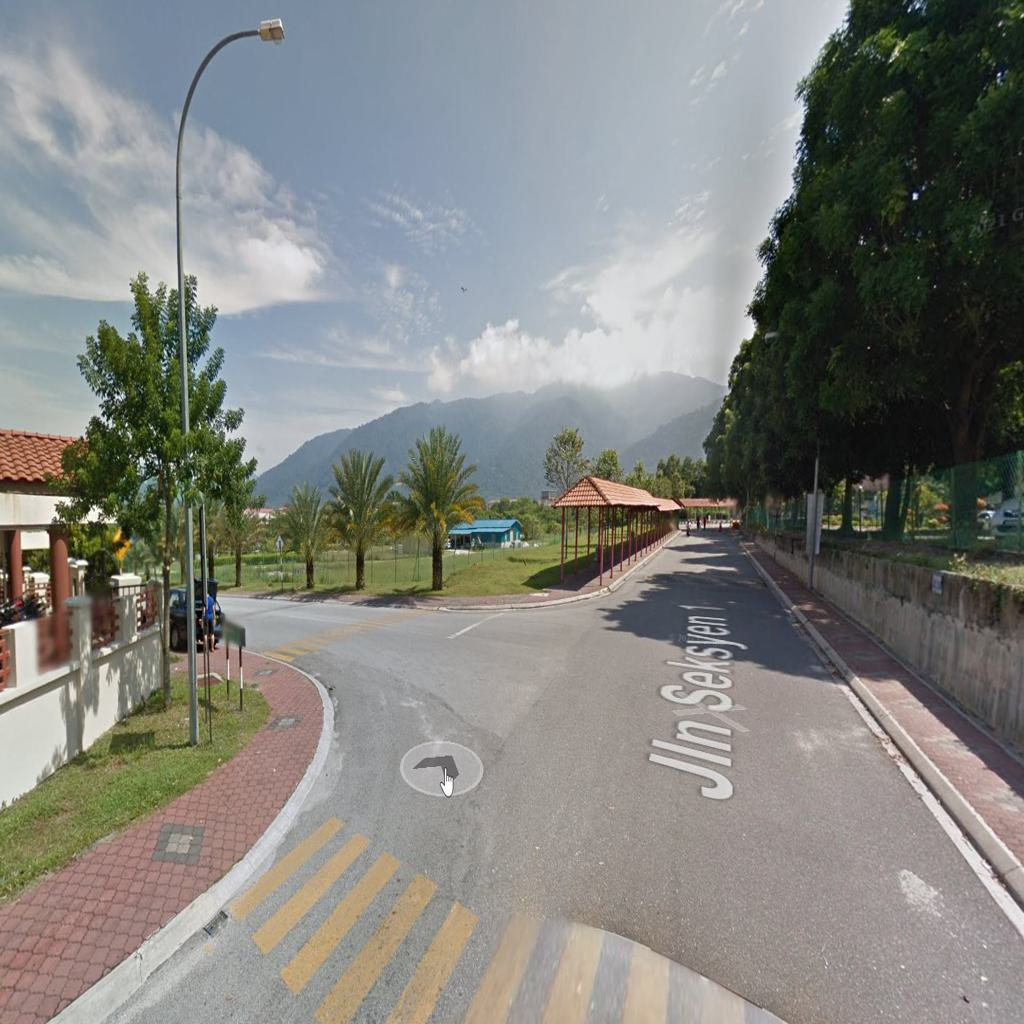Junction: (225, 590, 565, 768)
